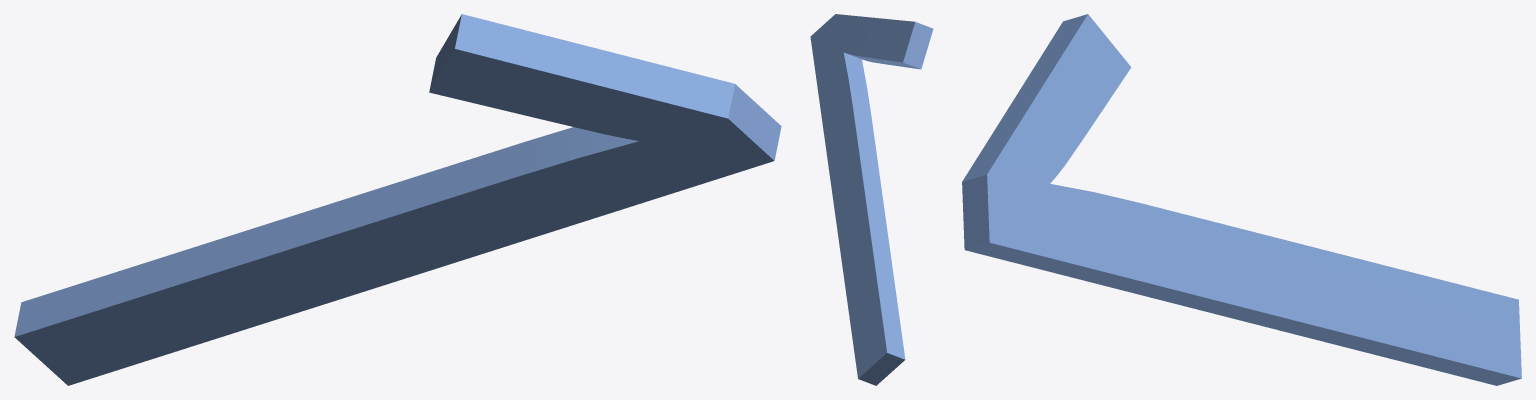
The model's file is New_Number_1.gltf.
3 views of the same model, side by side, from view 1: azimuth 30°, elevation 25°; view 2: azimuth 150°, elevation 25°; view 3: azimuth 270°, elevation 25° (orthographic). The views are drawn at different scales.
Parts seen in each view (by area): view 1: Part 172; view 2: Part 172; view 3: Part 172.
Boxes of the visible parts, x1,y1,x2,y2 form: Part 172: (14, 14, 781, 385); Part 172: (810, 14, 933, 385); Part 172: (962, 14, 1521, 385).
Size of the model in its own units: 0.00323 by 0.00327 by 0.00378.
